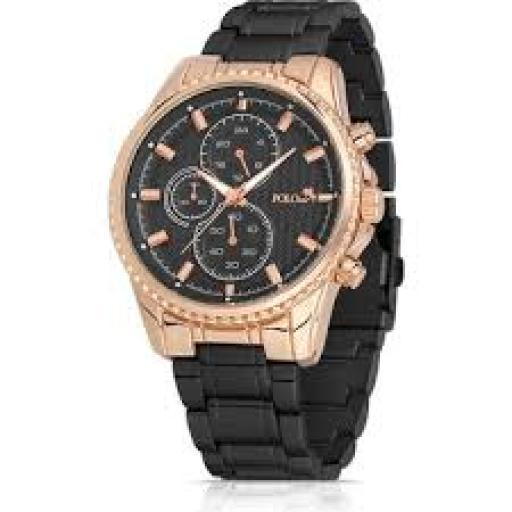KolSaati: (64, 0, 424, 487)
